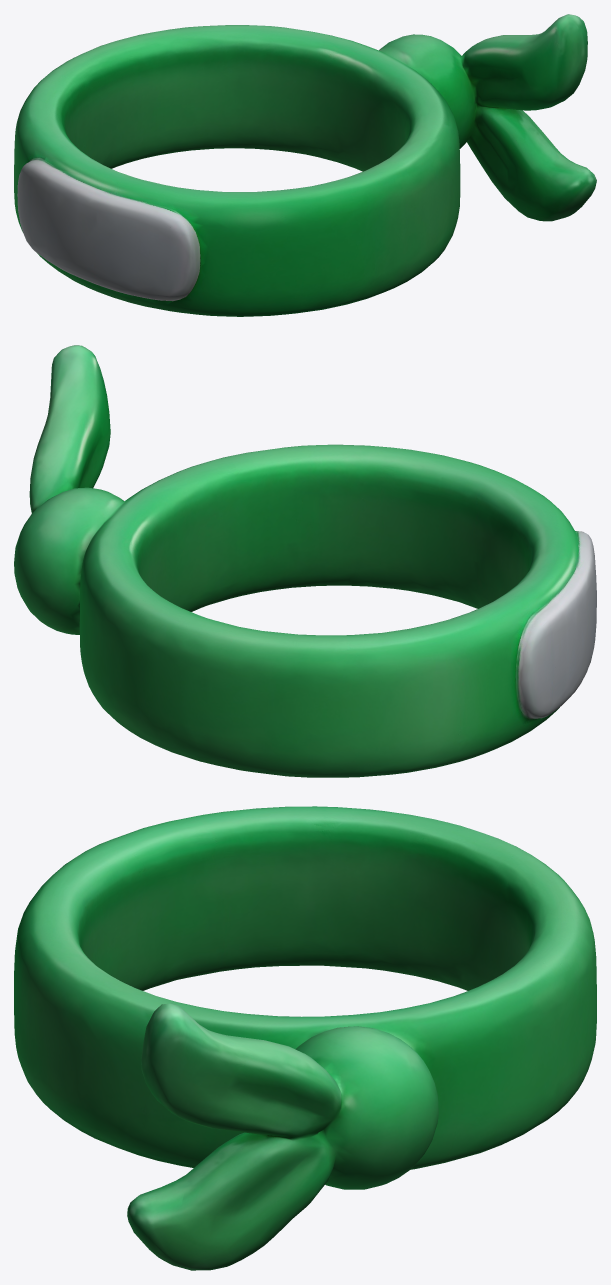
The model's file is cs-ninja-band.glb.
3 renders of one model, top to bottom at view 1: azimuth 30°, elevation 25°; view 2: azimuth 150°, elevation 25°; view 3: azimuth 270°, elevation 25°, orthographic. The views are drawn at different scales.
Visible parts, largest first — view 1: tripo_node_e6ee5fff-dd95-45ad-911b-15ed3c4eb782; view 2: tripo_node_e6ee5fff-dd95-45ad-911b-15ed3c4eb782; view 3: tripo_node_e6ee5fff-dd95-45ad-911b-15ed3c4eb782.
Part boxes in pixels (x1,y1,x2,y2): tripo_node_e6ee5fff-dd95-45ad-911b-15ed3c4eb782: (14, 14, 596, 316); tripo_node_e6ee5fff-dd95-45ad-911b-15ed3c4eb782: (14, 345, 596, 777); tripo_node_e6ee5fff-dd95-45ad-911b-15ed3c4eb782: (14, 806, 596, 1270).
Size of the model in its own units: 1 by 0.4007 by 0.787.
1 material, 1 textured.
